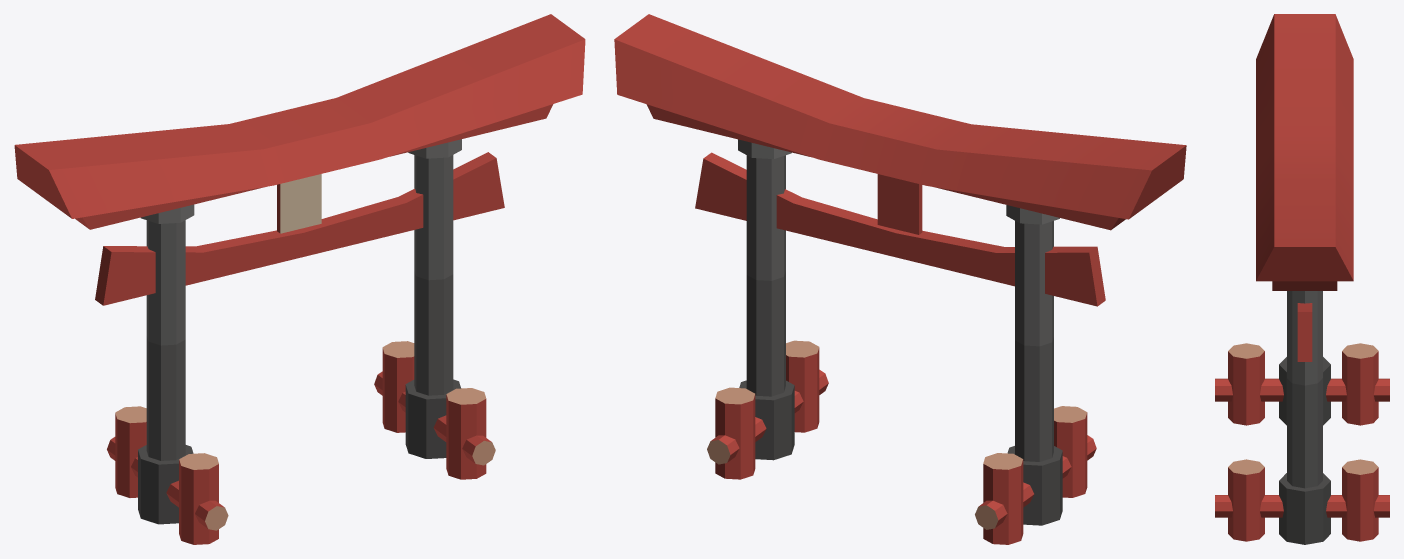
The model's file is torii_4.fbx.
3 views of the same model, side by side, from view 1: azimuth 30°, elevation 25°; view 2: azimuth 150°, elevation 25°; view 3: azimuth 270°, elevation 25° (orthographic). The views are drawn at different scales.
Parts seen in each view (by area): view 1: torii_4; view 2: torii_4; view 3: torii_4.
Boxes of the visible parts, box(x1,y1,x2,y2) form: torii_4: box(14, 14, 585, 544); torii_4: box(614, 14, 1186, 544); torii_4: box(1215, 14, 1389, 544).
Size of the model in its own units: 629 by 435 by 199.
